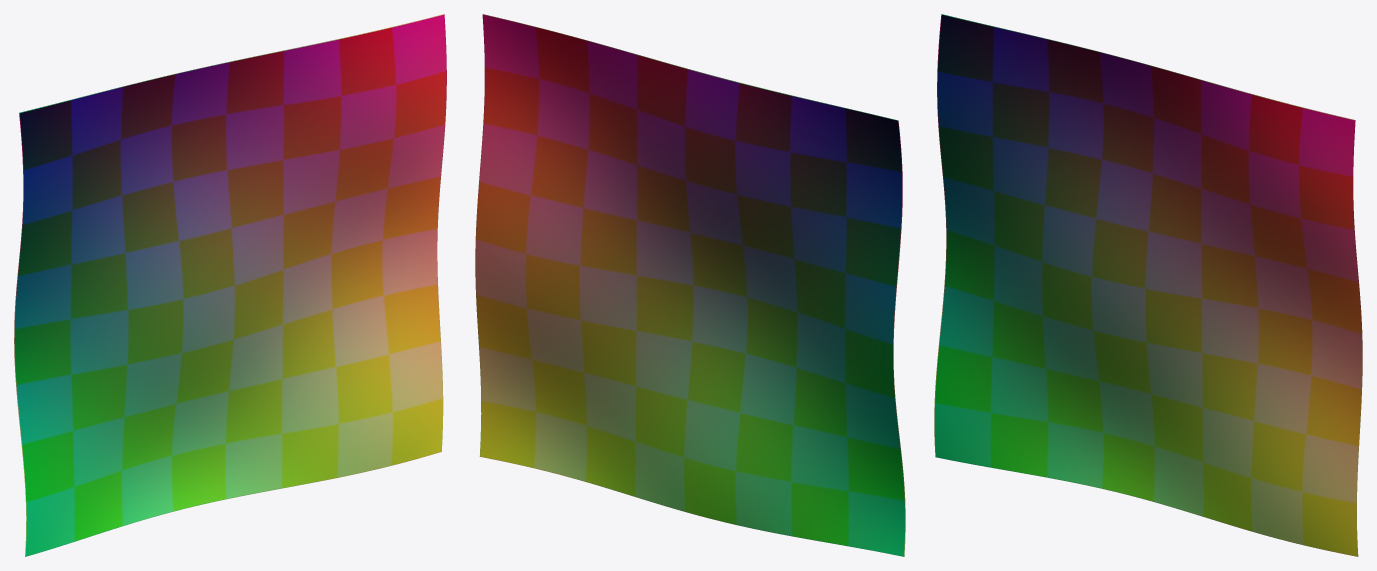
File: Tile_+025_+026.obj
The picture shows the model from 3 angles, left to right: view 1: azimuth 30°, elevation 25°; view 2: azimuth 150°, elevation 25°; view 3: azimuth 330°, elevation 25°; orthographic projection.
Bounding box in the file's own units: 100 × 100 × 5.97.
